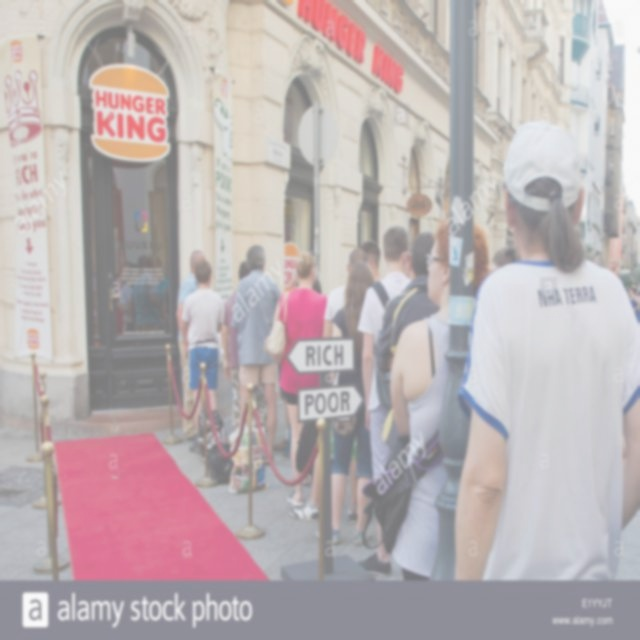pessoa: (452, 118, 640, 582), (362, 216, 491, 580), (372, 230, 442, 577), (288, 247, 368, 522), (355, 225, 414, 580), (263, 250, 329, 508), (330, 260, 376, 547), (230, 243, 282, 467), (181, 258, 226, 456), (221, 260, 266, 430), (175, 250, 209, 443), (110, 248, 172, 341), (358, 239, 382, 287), (488, 247, 518, 284), (91, 260, 98, 328), (628, 286, 640, 324), (312, 269, 322, 297), (288, 266, 300, 288), (634, 286, 640, 300)
